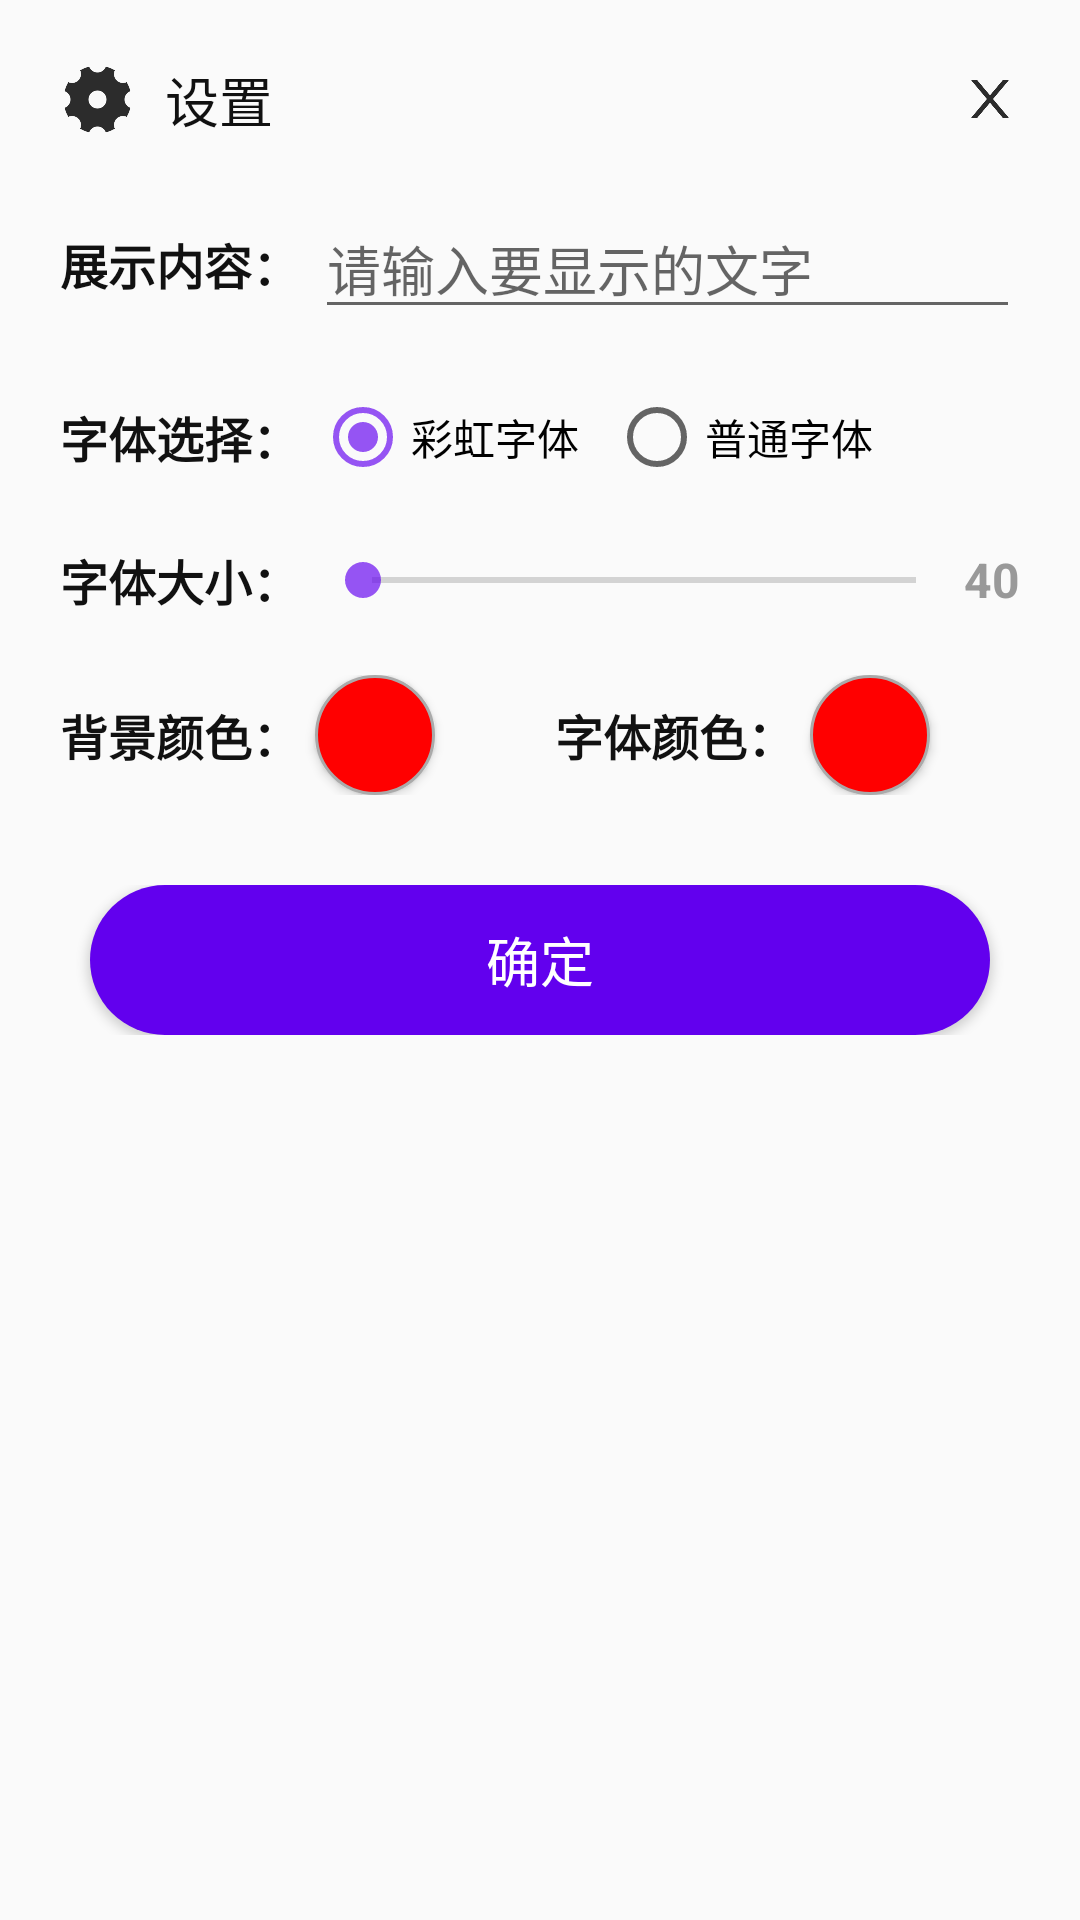

Where icons sit on this 1080px×1920px app screen, as (x1, y1, x2, y2):
close: (971, 80, 1009, 118)
